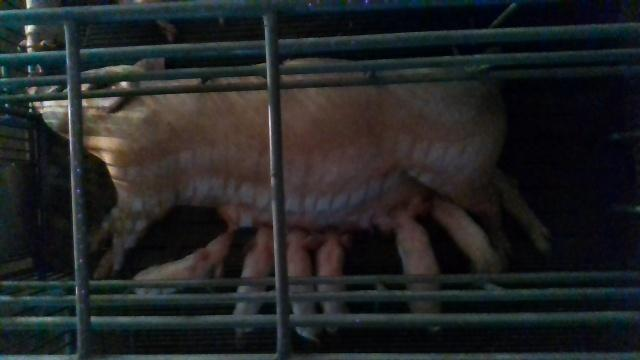piglet: (373, 192, 441, 313), (132, 227, 232, 295), (426, 196, 503, 274), (231, 226, 274, 333), (287, 226, 323, 344), (314, 228, 354, 331), (18, 0, 61, 73)
sow-sleep-lactate: (28, 57, 554, 279)
